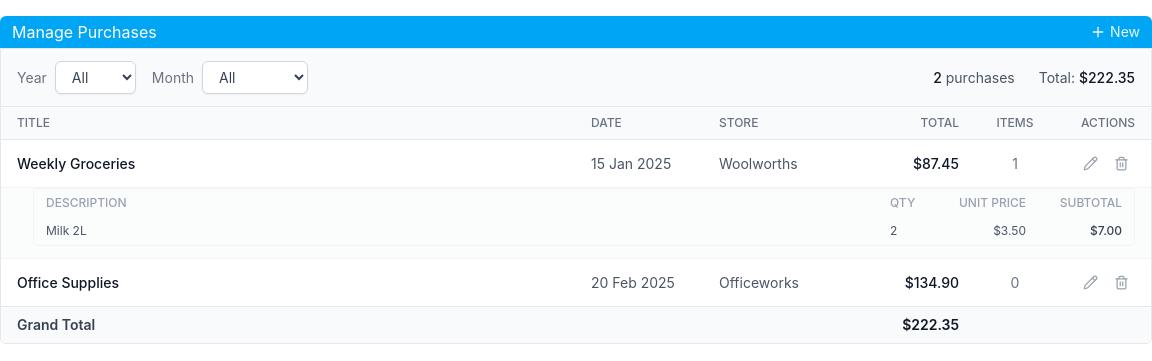
EditTable › filters purchases by month
Expected: the text "Weekly Groceries" is shown, [17, 154, 135, 172]
Select "January" in the dropdown labelled "Month" at (255, 78), box [202, 61, 308, 94]
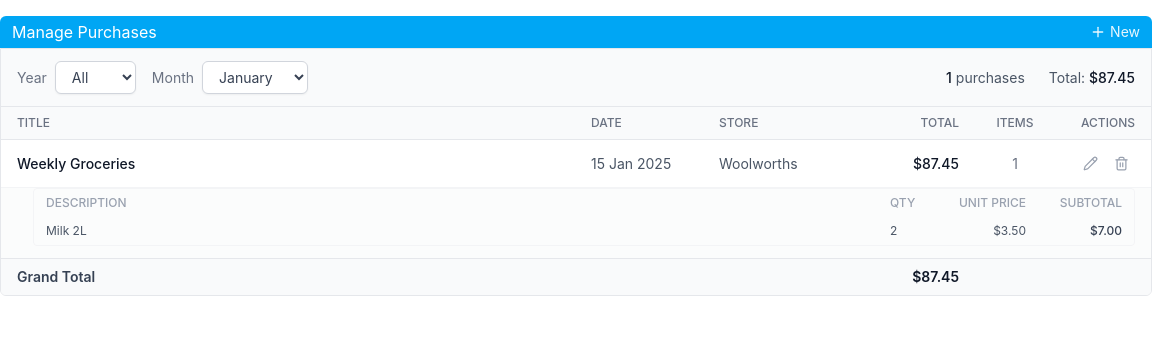
Expected: the text "Weekly Groceries" is shown, [17, 154, 135, 172]
Expected: the text "Office Supplies" is gone
